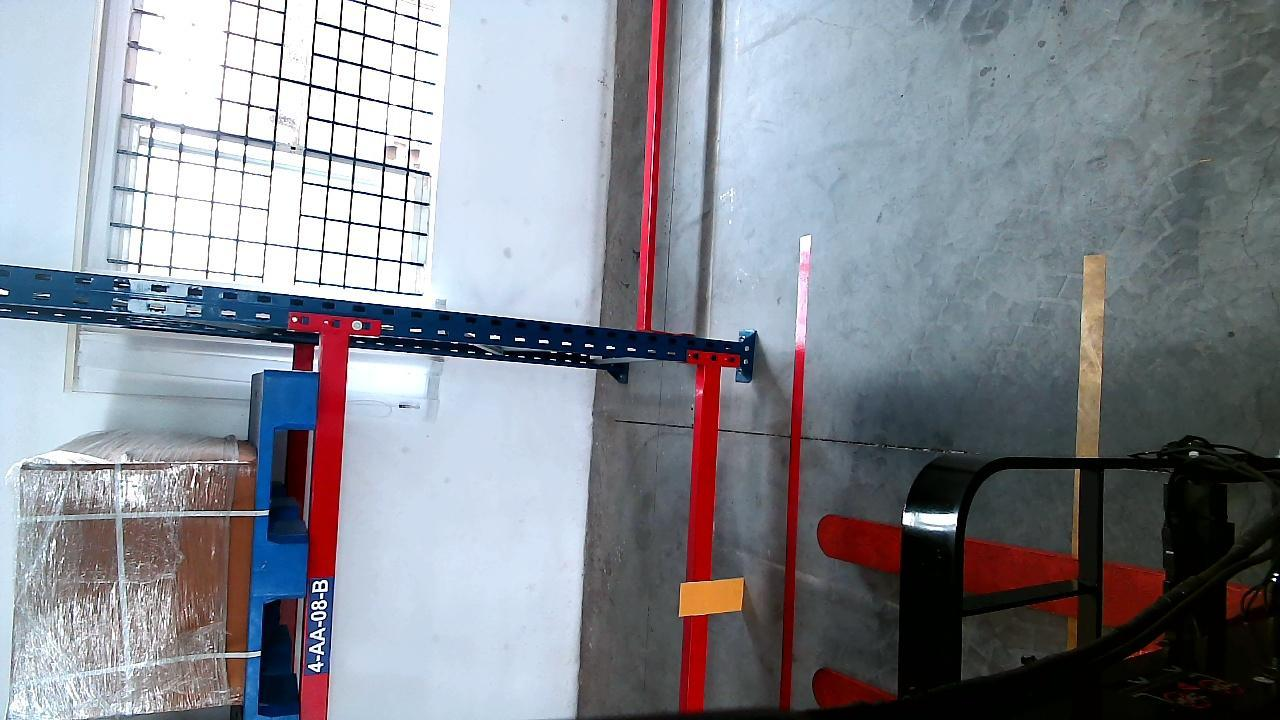red_line: (777, 236, 811, 715)
yellow_line: (1077, 253, 1104, 455)
